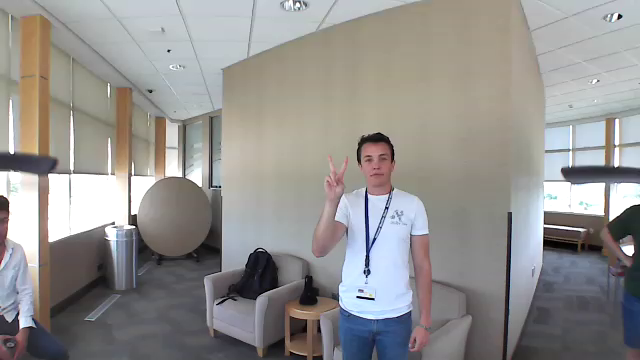peace: (320, 152, 356, 201)
